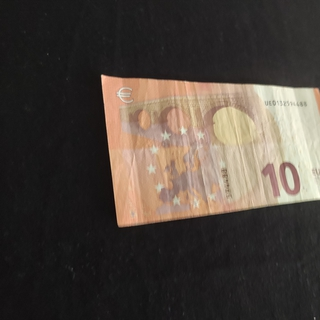10EUROBack: (100, 73, 320, 228)
